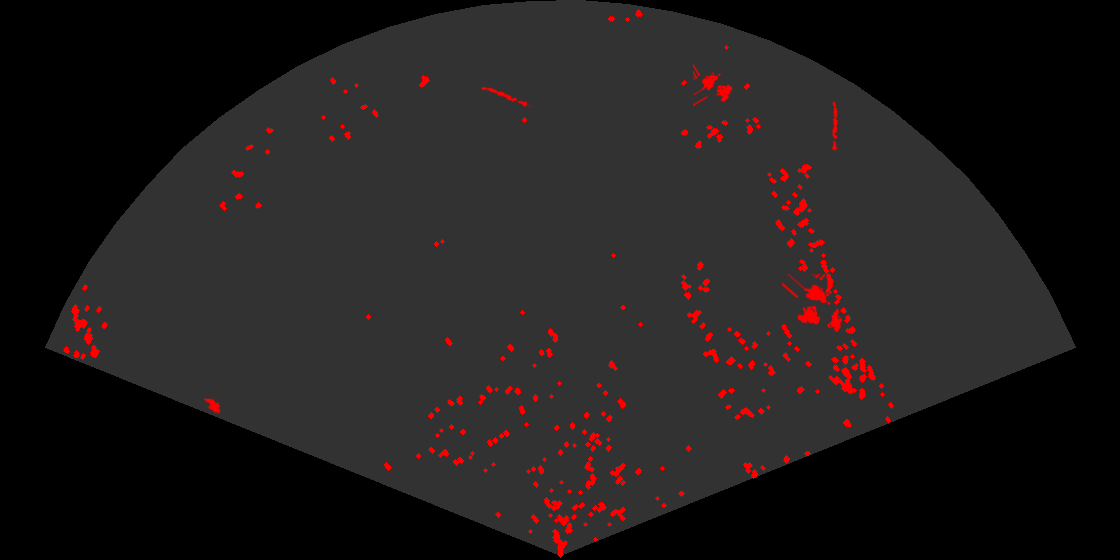AUV: (202, 394, 223, 415), (829, 307, 844, 334)
cage: (782, 274, 832, 326), (693, 62, 734, 108)
chain: (479, 85, 532, 109), (830, 101, 840, 151)
